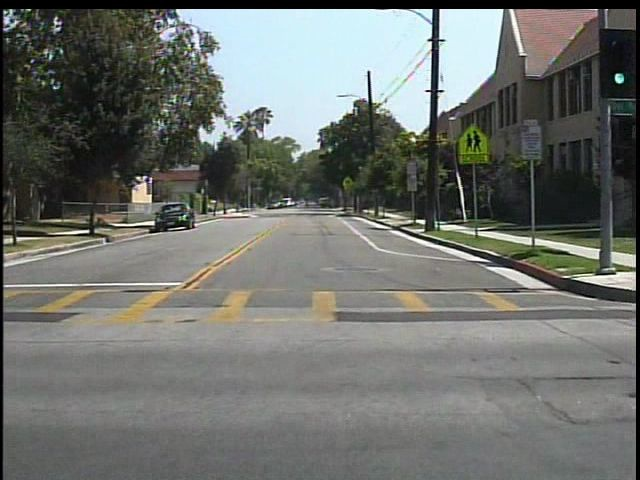person: (301, 195, 315, 213)
